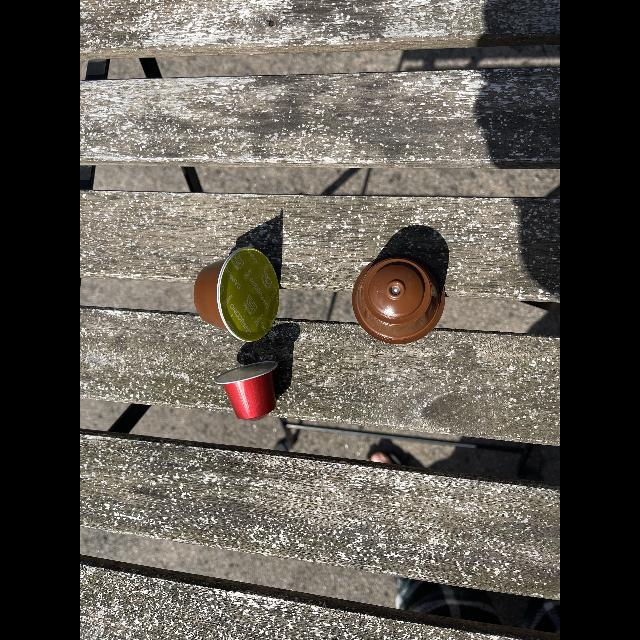intact_capsule: (348, 250, 452, 350), (191, 242, 285, 350), (210, 360, 292, 430)
